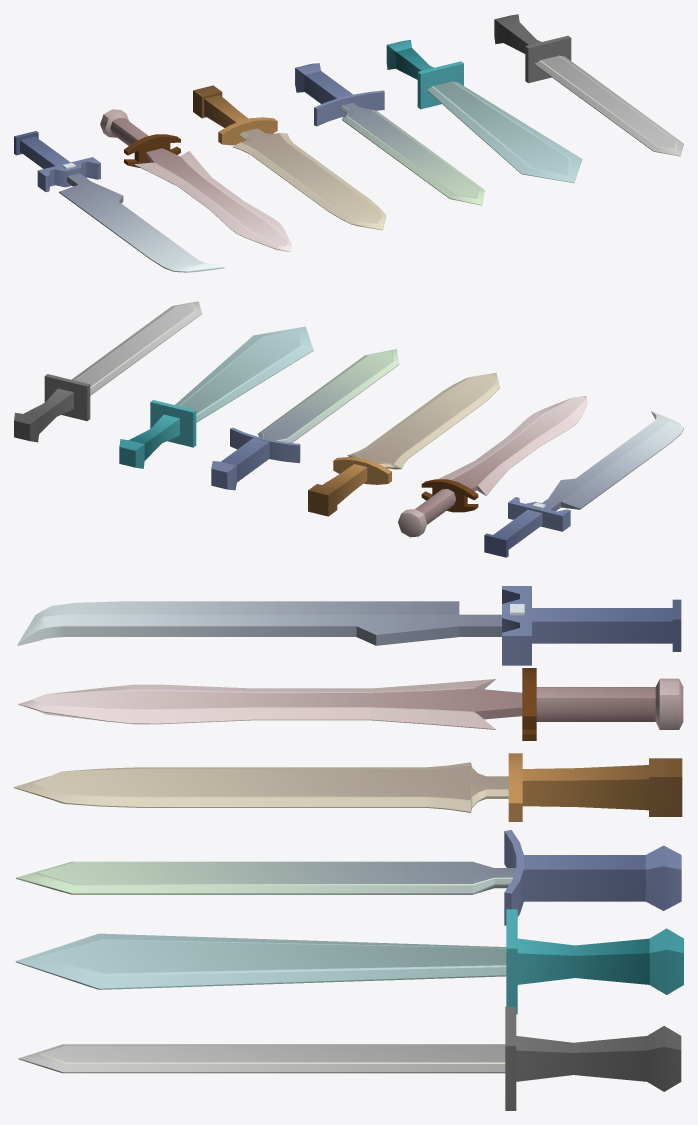
File: Sword_1.fbx
3 views of the same model, one above another, from view 1: azimuth 30°, elevation 25°; view 2: azimuth 150°, elevation 25°; view 3: azimuth 270°, elevation 25° (orthographic). The views are drawn at different scales.
Visible parts, largest first — view 1: Sw_2, Sw_4, Sw_3, Sw_6, Sw_5, Sw_1; view 2: Sw_2, Sw_4, Sw_3, Sw_5, Sw_6, Sw_1; view 3: Sw_2, Sw_4, Sw_6, Sw_3, Sw_5, Sw_1.
Part boxes in pixels (<box>): Sw_2: <box>386,40,582,183</box>; Sw_4: <box>193,85,386,230</box>; Sw_3: <box>295,63,484,205</box>; Sw_6: <box>14,131,224,272</box>; Sw_5: <box>100,109,291,251</box>; Sw_1: <box>494,14,683,156</box>; Sw_2: <box>119,326,313,468</box>; Sw_4: <box>308,372,499,516</box>; Sw_3: <box>211,349,399,490</box>; Sw_5: <box>398,396,587,537</box>; Sw_6: <box>484,411,683,557</box>; Sw_1: <box>14,301,201,442</box>; Sw_2: <box>15,909,683,1014</box>; Sw_4: <box>14,753,682,821</box>; Sw_6: <box>17,586,681,665</box>; Sw_3: <box>16,830,681,925</box>; Sw_5: <box>18,668,683,740</box>; Sw_1: <box>18,1006,681,1110</box>.
Bounding box in the file's own units: 316 × 20.26 × 187.
